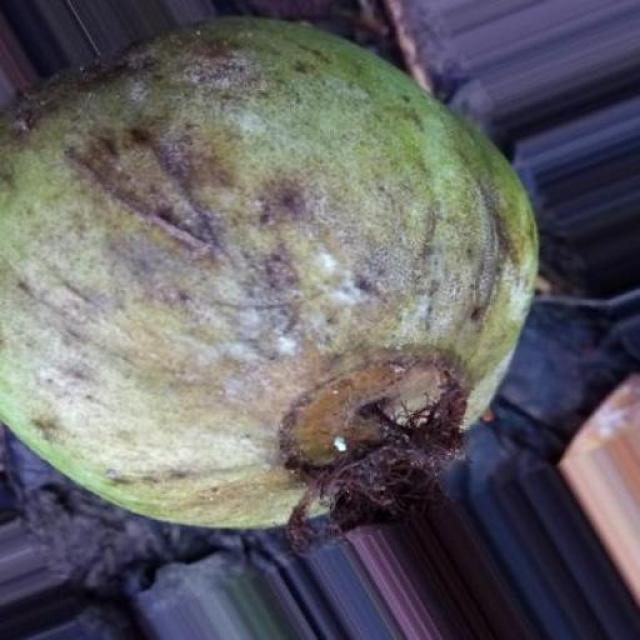Styler_Root: (0, 19, 538, 527)
